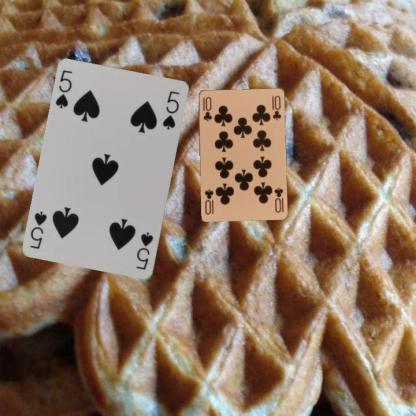10c: (200, 94, 213, 122), (272, 185, 284, 213)
5s: (52, 67, 74, 110), (133, 230, 155, 272)
